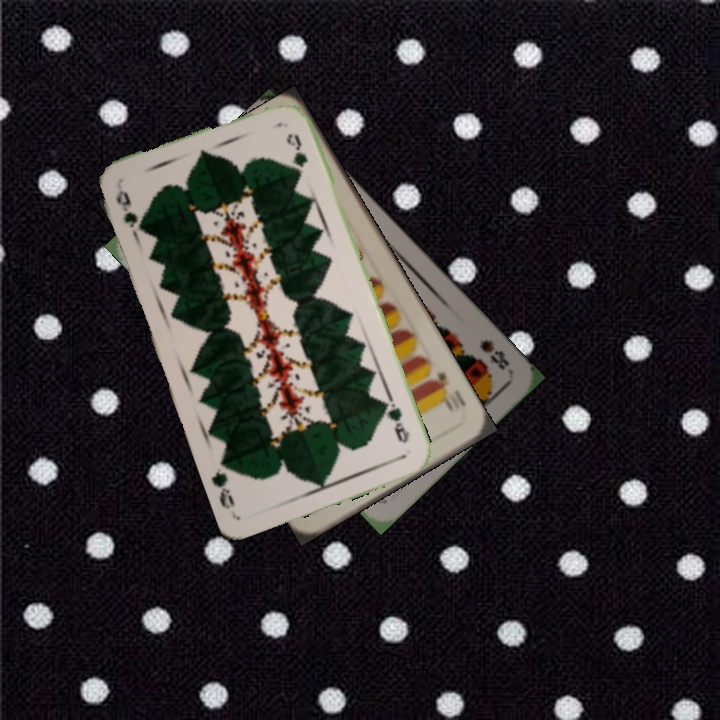E10: (427, 368, 469, 415)
G9: (112, 186, 148, 237), (378, 394, 412, 446)
S8: (475, 335, 512, 373)
